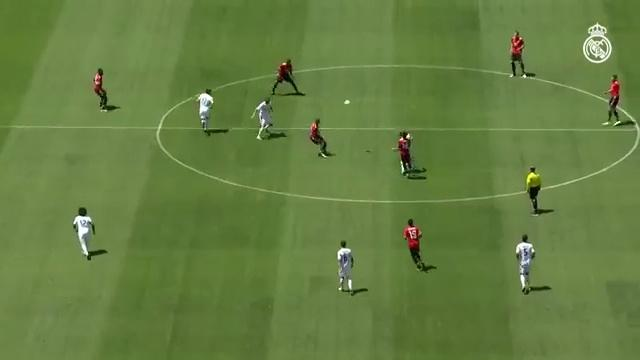football: (341, 98, 354, 109)
player: (403, 219, 426, 270), (271, 59, 302, 95), (73, 207, 94, 260), (516, 234, 534, 293), (603, 75, 621, 125), (392, 131, 412, 175), (337, 240, 353, 294), (251, 98, 272, 139), (196, 88, 213, 134), (309, 118, 328, 157), (510, 31, 526, 77), (93, 68, 108, 112), (406, 132, 412, 151)
referee: (526, 167, 540, 215)
